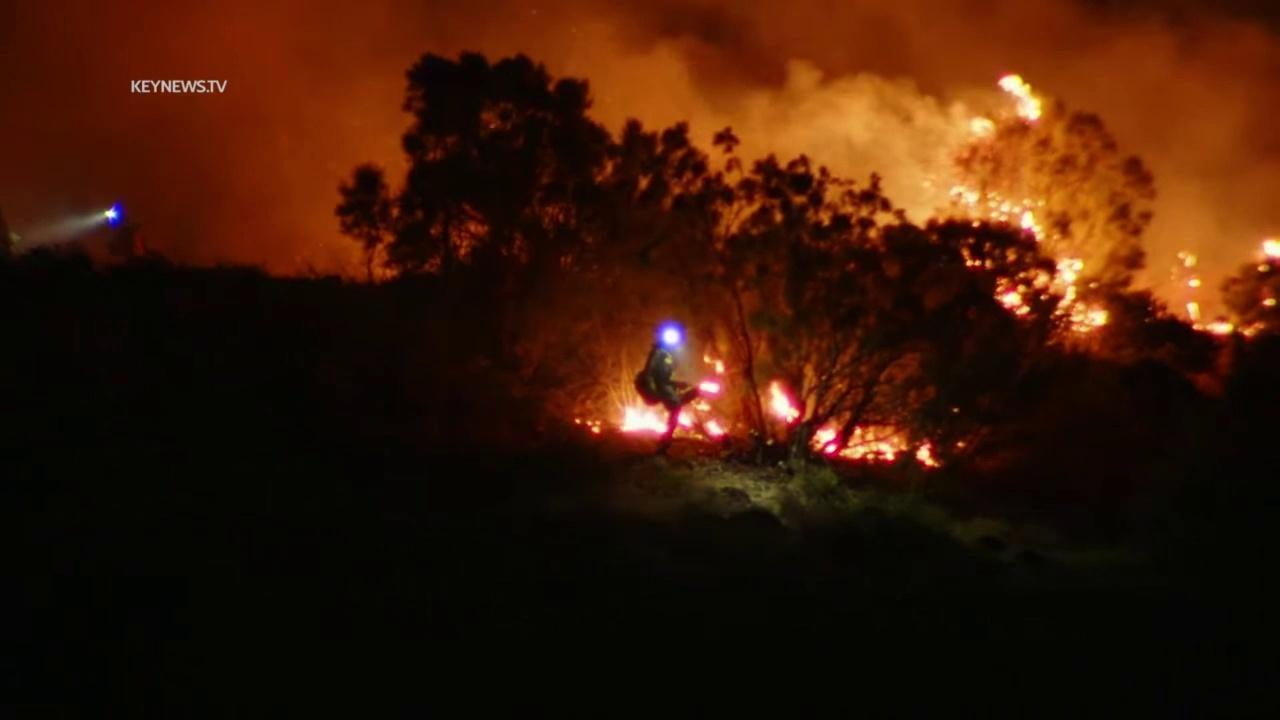fire: (994, 258, 1111, 335), (945, 185, 1052, 242), (841, 425, 942, 469), (995, 70, 1047, 126), (614, 403, 669, 438), (1184, 299, 1235, 334), (767, 378, 801, 425), (816, 427, 839, 455), (701, 416, 727, 439), (697, 377, 724, 398), (702, 353, 726, 376), (1241, 319, 1266, 341), (574, 417, 602, 434), (1262, 234, 1280, 260), (1176, 249, 1198, 270), (675, 408, 695, 429), (1261, 295, 1278, 308), (1186, 278, 1203, 288)
smoke: (0, 0, 1280, 320)
